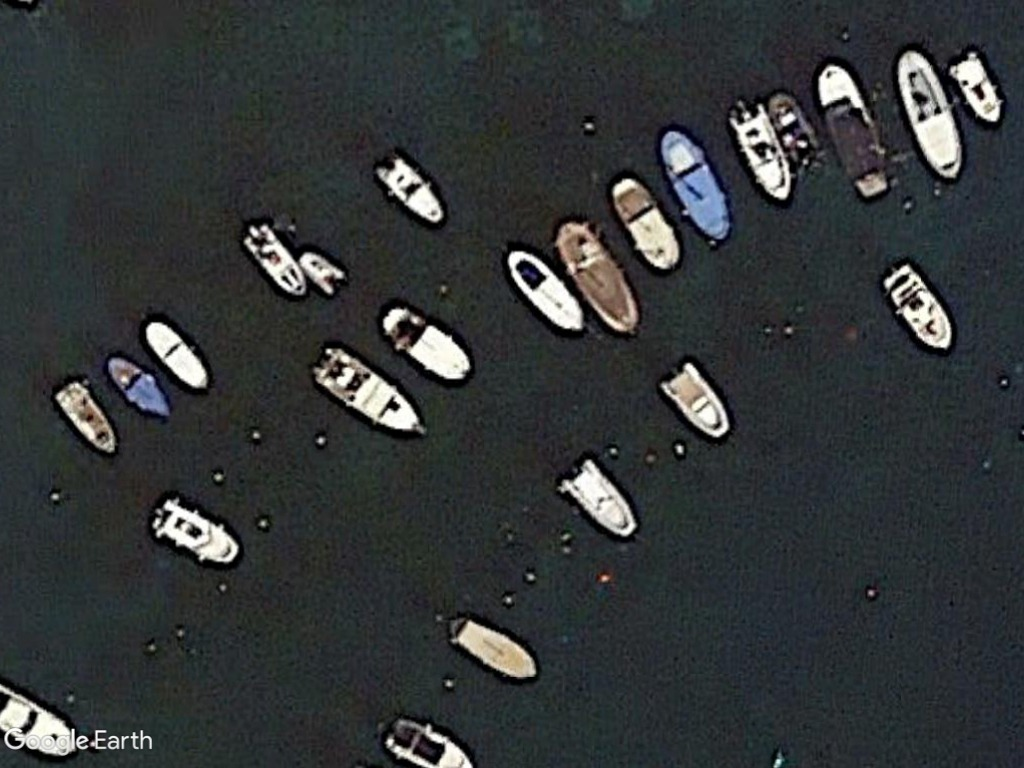boat: (312, 342, 429, 446), (813, 56, 896, 201), (547, 220, 643, 340), (892, 43, 965, 179), (654, 122, 736, 243), (377, 298, 474, 389), (502, 246, 588, 337), (879, 255, 958, 354), (720, 97, 795, 201), (441, 611, 541, 688), (555, 455, 643, 542), (607, 173, 682, 274), (654, 357, 736, 445), (151, 494, 242, 570), (370, 147, 450, 229), (47, 372, 122, 458), (377, 708, 477, 768), (238, 216, 309, 300), (142, 314, 214, 393), (103, 347, 175, 421), (947, 46, 1011, 128), (296, 246, 350, 297)
